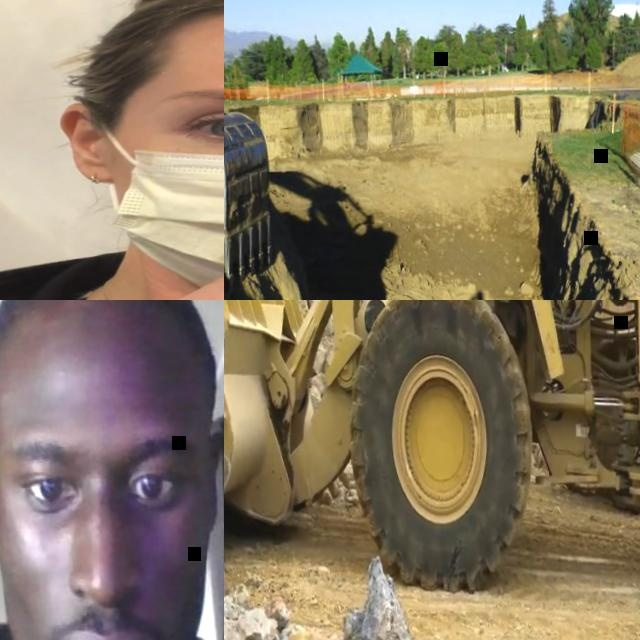Mask: (98, 94, 224, 299)
NO-Hardhat: (0, 300, 218, 380), (98, 0, 224, 76)
NO-Mask: (0, 534, 219, 640)
Person: (0, 300, 224, 640), (0, 0, 224, 300)
machinery: (224, 300, 640, 640), (224, 0, 281, 290)
